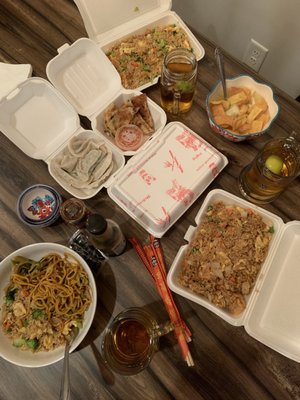pizza: (46, 38, 124, 129), (238, 132, 300, 204)
sushi: (0, 242, 98, 367), (205, 76, 280, 143)
